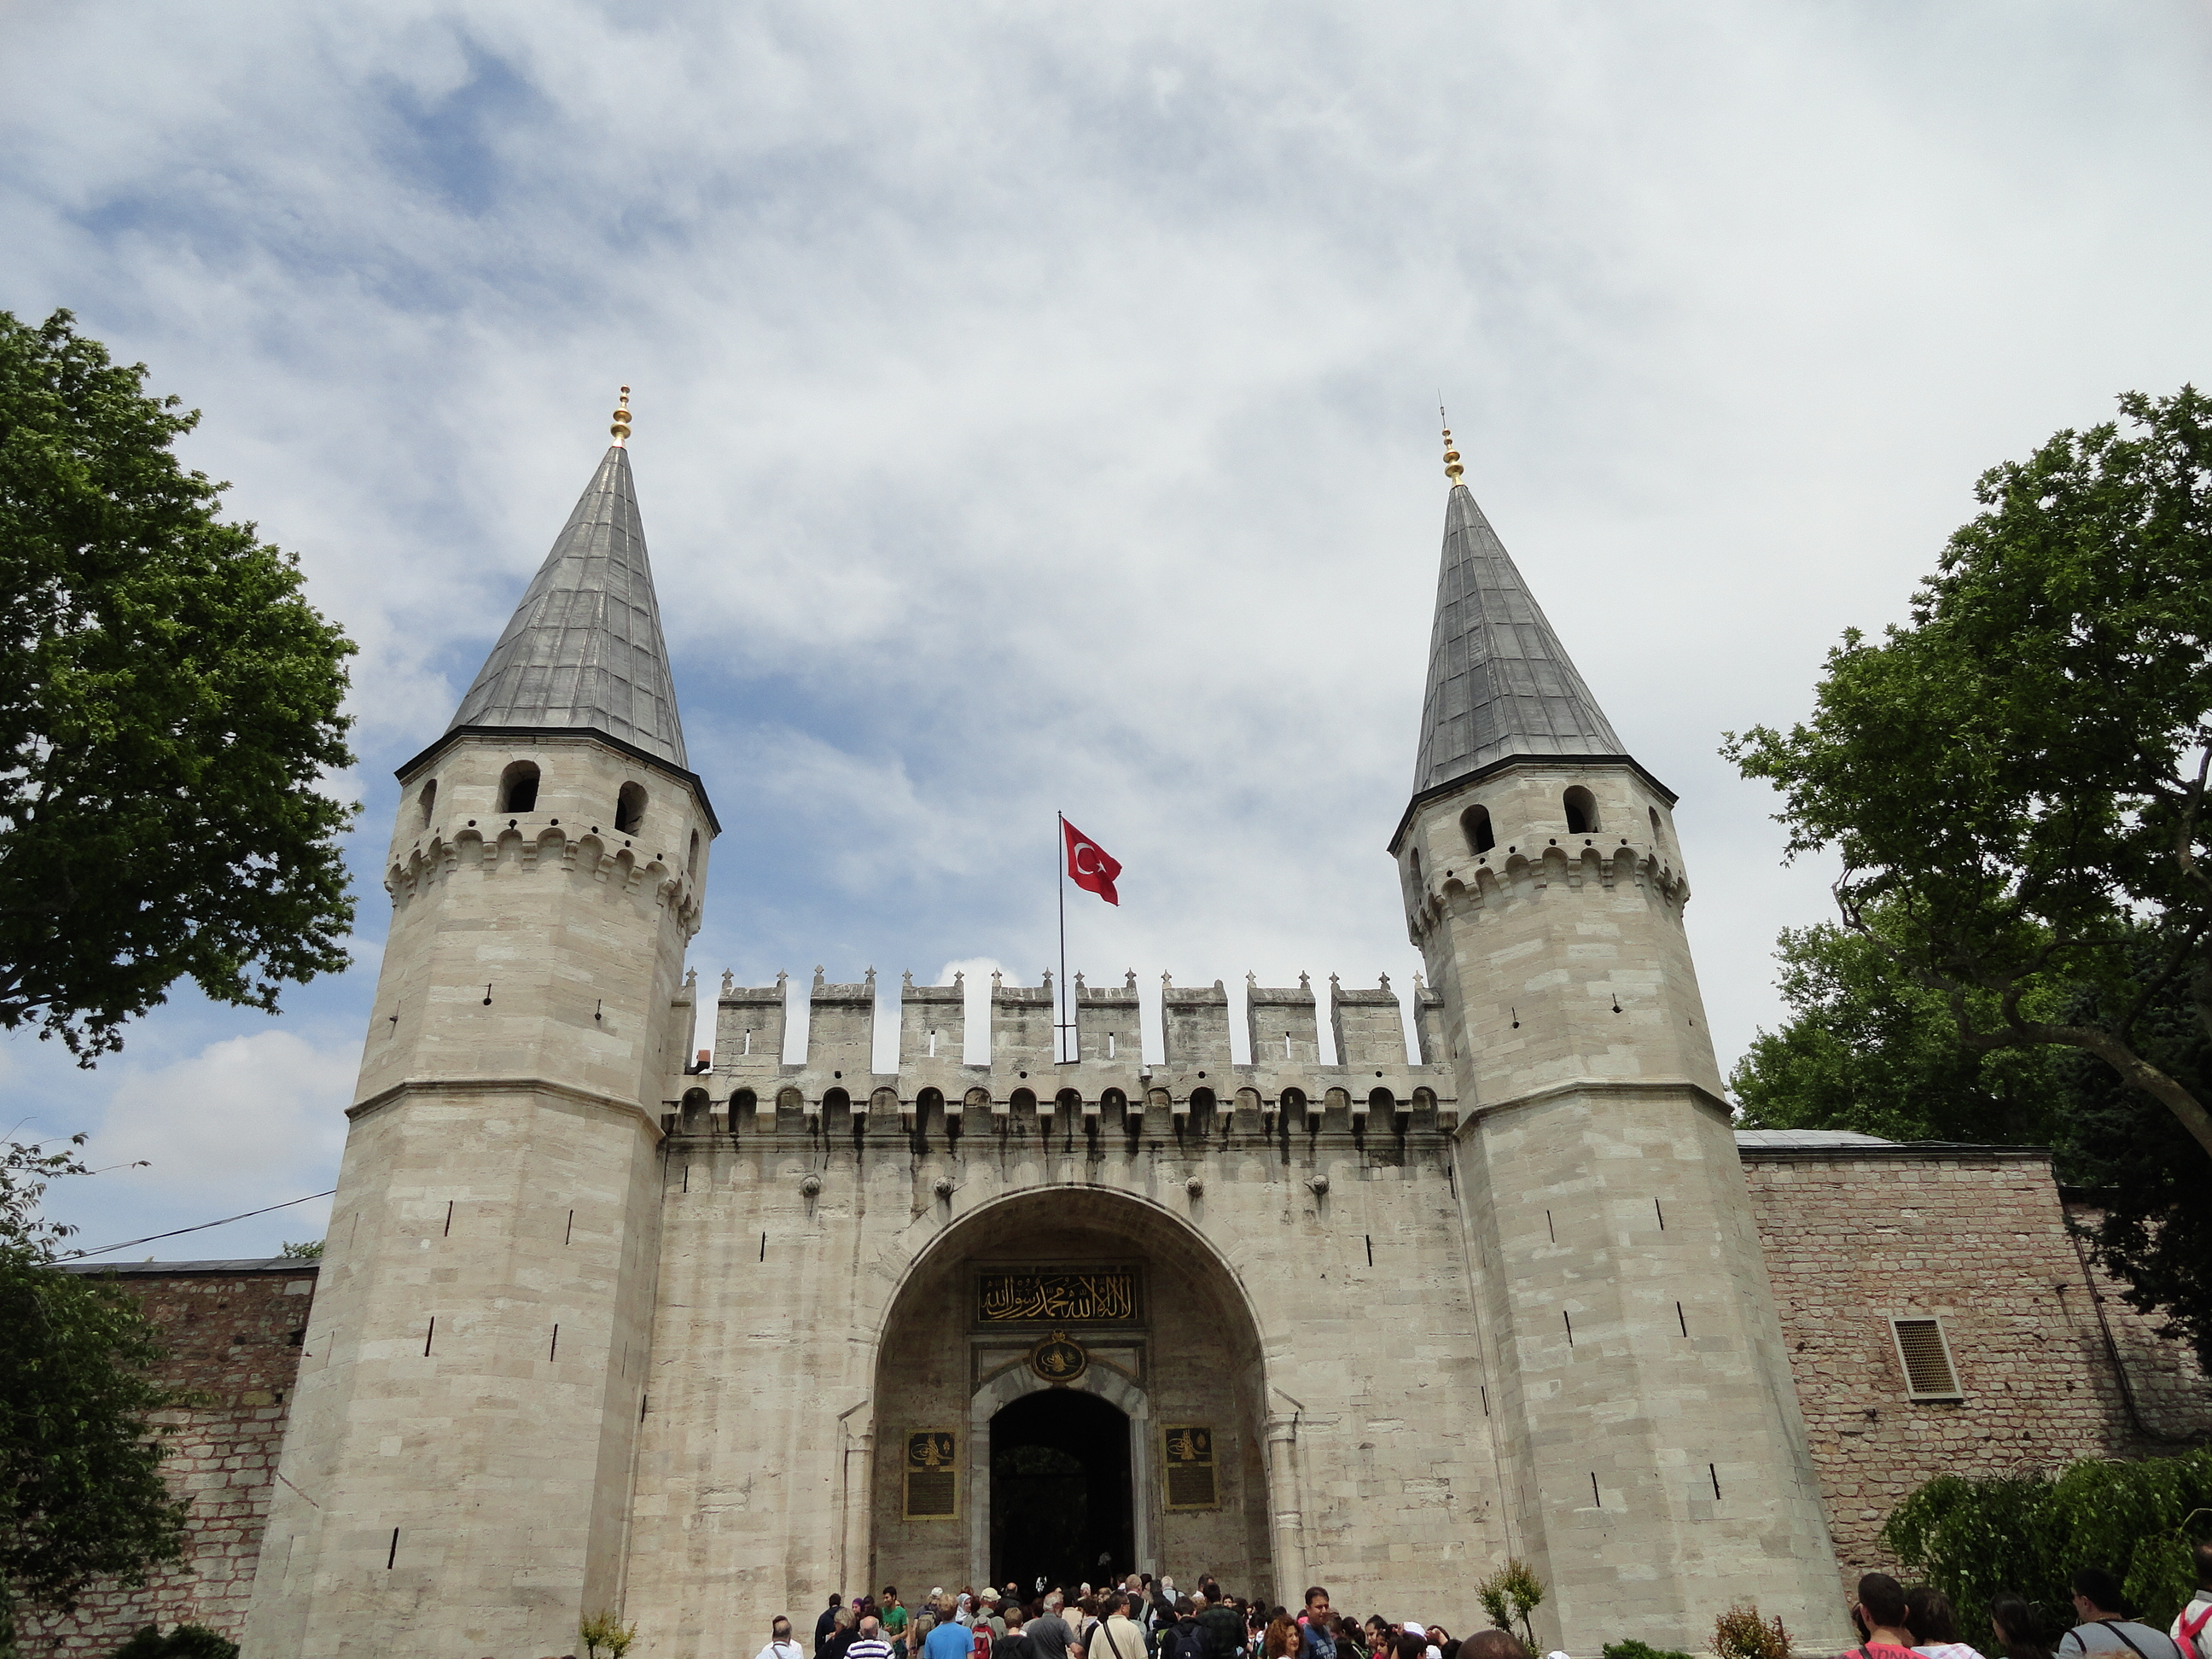Tree: (0, 301, 368, 1073), (1728, 863, 2210, 1382), (0, 1129, 209, 1657)
